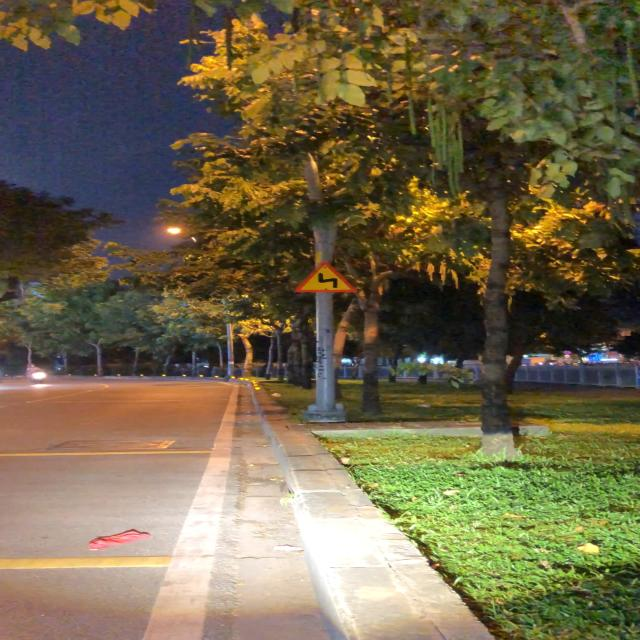Bien bao nhieu cho ngoat nguy hiem lien tiep: (290, 257, 368, 297)
